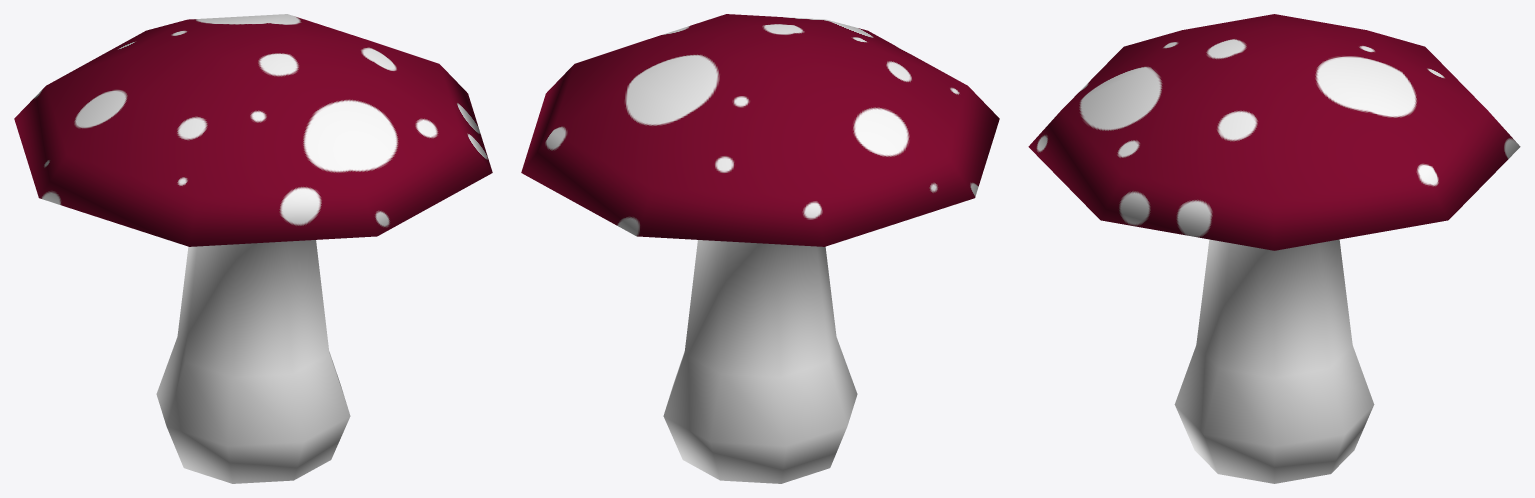
Rendered from mushroom_1.fbx.
The picture shows the model from 3 angles, left to right: view 1: azimuth 30°, elevation 25°; view 2: azimuth 150°, elevation 25°; view 3: azimuth 270°, elevation 25°; orthographic projection.
Visible parts, largest first — view 1: mushroom_1; view 2: mushroom_1; view 3: mushroom_1.
Part boxes in pixels (x1,y1,x2,y2): mushroom_1: [14, 14, 492, 483]; mushroom_1: [521, 14, 999, 483]; mushroom_1: [1028, 14, 1520, 483].
Bounding box in the file's own units: 0.3156 × 0.2858 × 0.3156.
